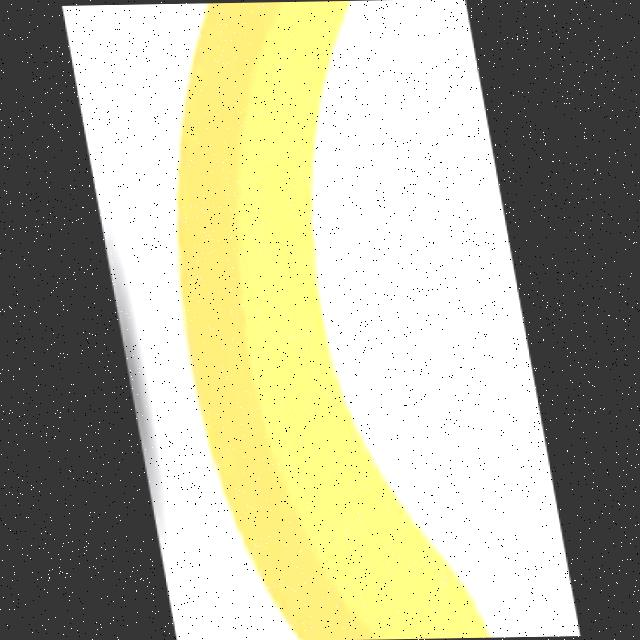banana: (169, 0, 484, 640)
